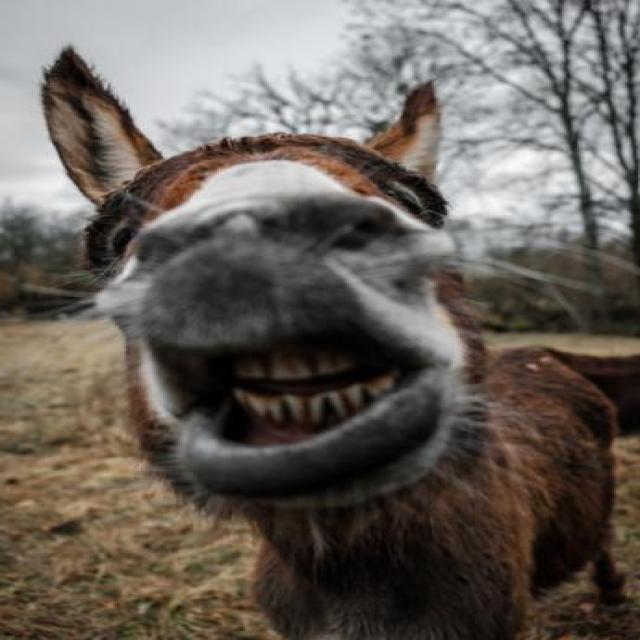Donkey: (44, 42, 640, 640)
